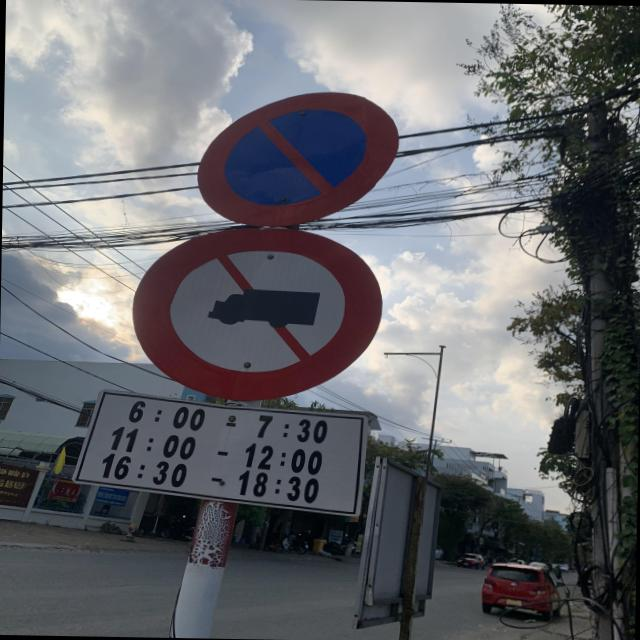Cam_Dau_Xe: (196, 88, 402, 228)
Cam_Xe_Tai: (130, 225, 387, 402)
